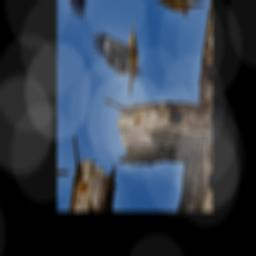Woodpecker: (87, 0, 159, 105)
